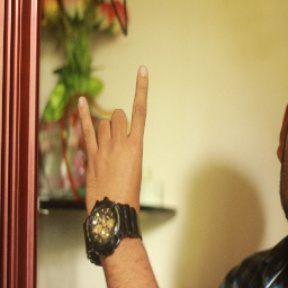V: (72, 61, 157, 202)
